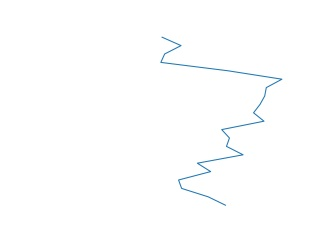floodPlain: (159, 36, 285, 208)
